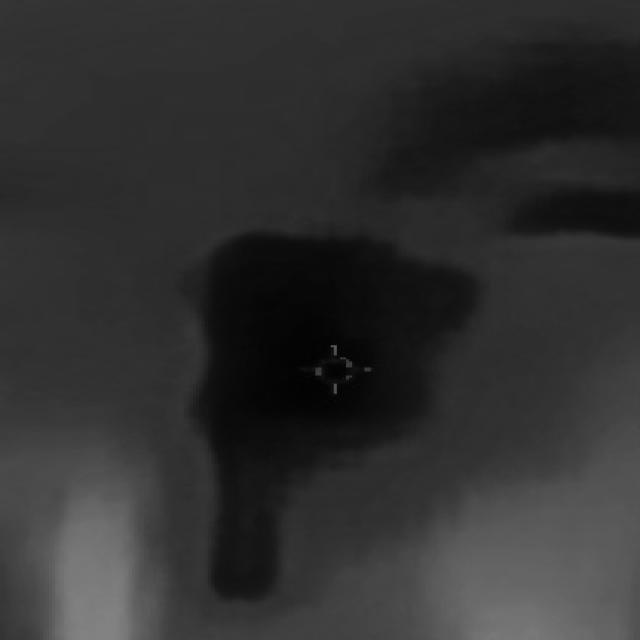Weapon: (46, 14, 640, 640)
